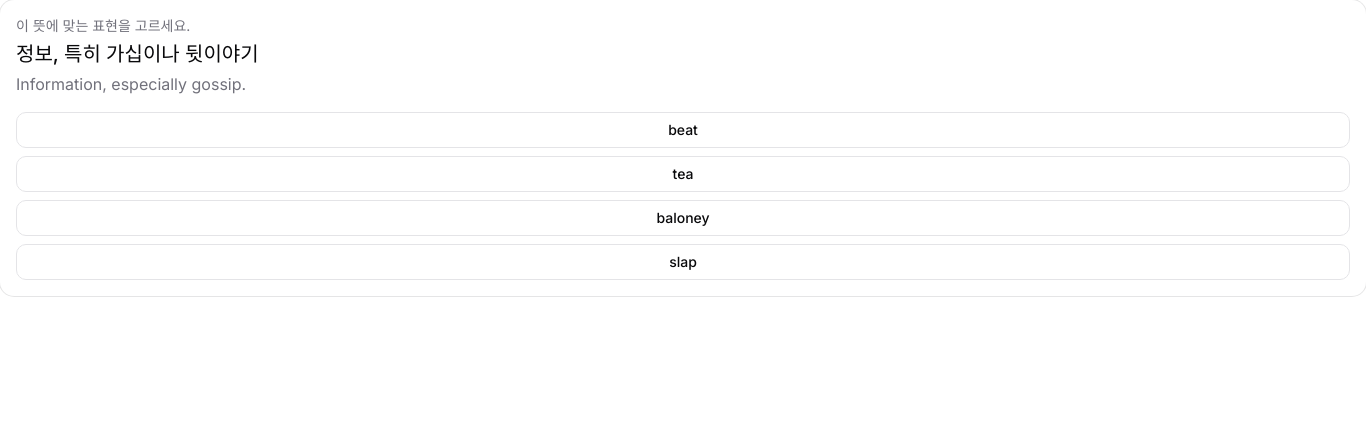
Test case: 저장에 실패하면 오류를 보여주고 다시 고를 수 있다
The width and height of the screenshot is (1366, 434).
Click the button "tea" at [683, 174], box [16,156,1350,192]
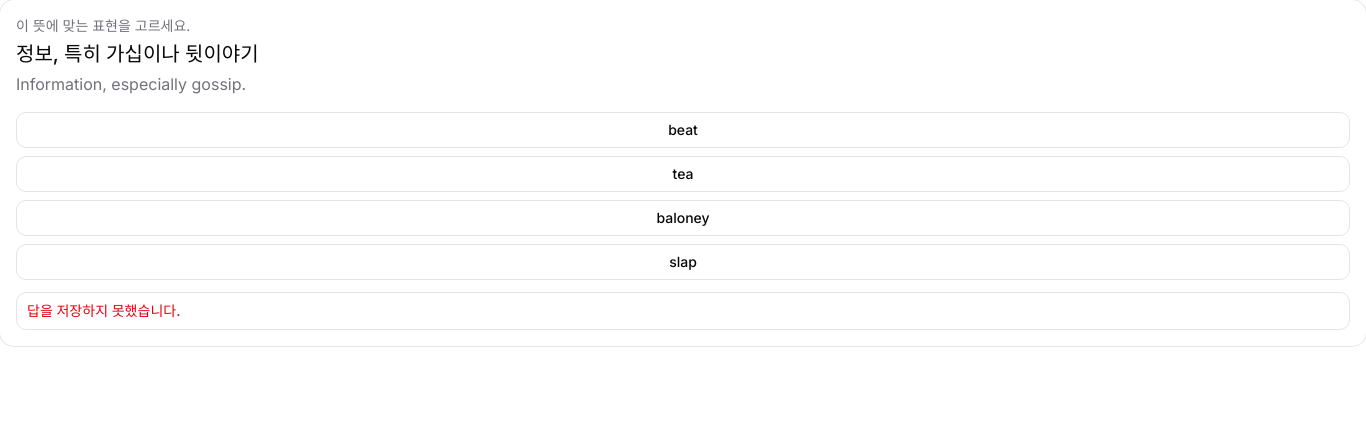
Expected: the message reads "답을 저장하지 못했습니다.", [27,302,180,319]
Click the button "tea" at [683, 174], box [16,156,1350,192]
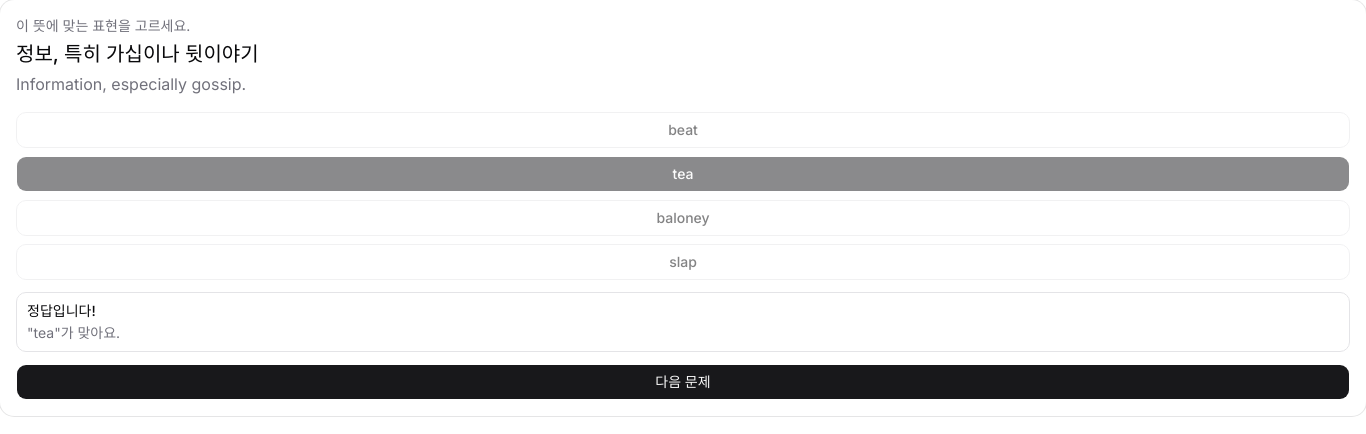
Expected: the text "정답입니다!" is shown, [27,302,96,319]
